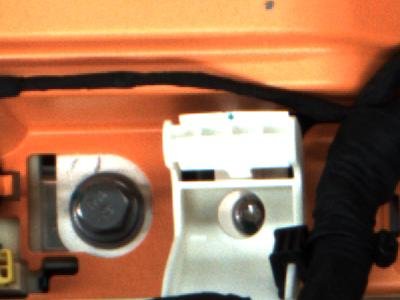nut_b: (59, 159, 158, 258)
